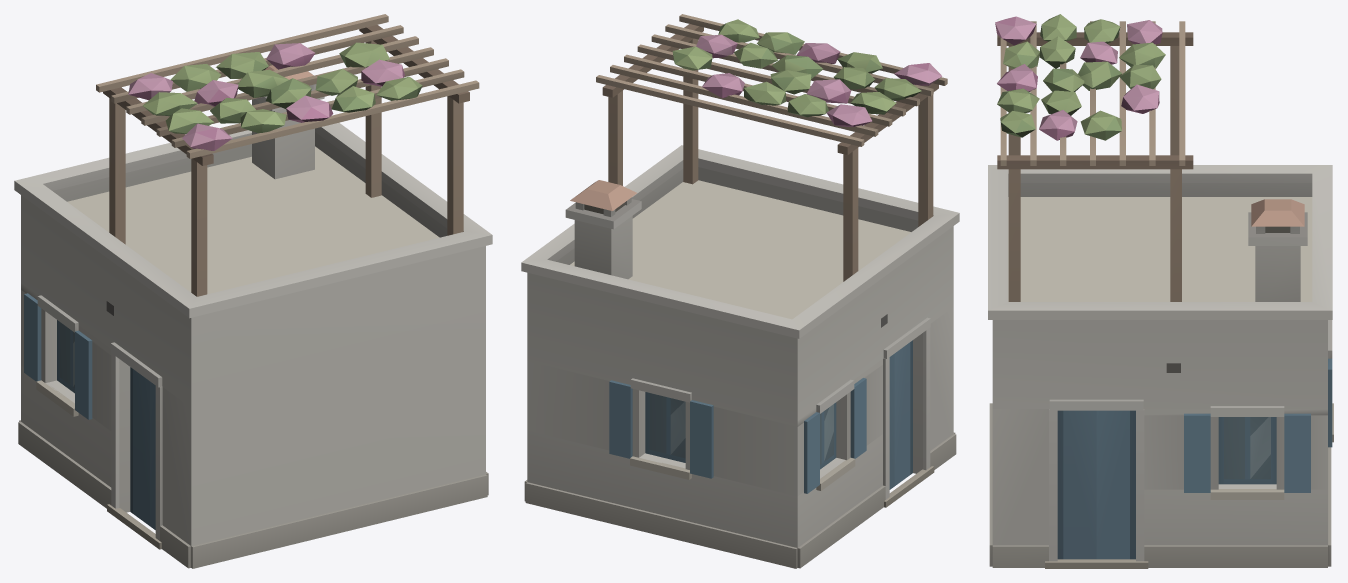
The picture shows the model from 3 angles, left to right: view 1: azimuth 30°, elevation 25°; view 2: azimuth 150°, elevation 25°; view 3: azimuth 270°, elevation 25°; orthographic projection. The views are drawn at different scales.
Bounding box in the file's own units: 4.43 × 5.9 × 4.42.
